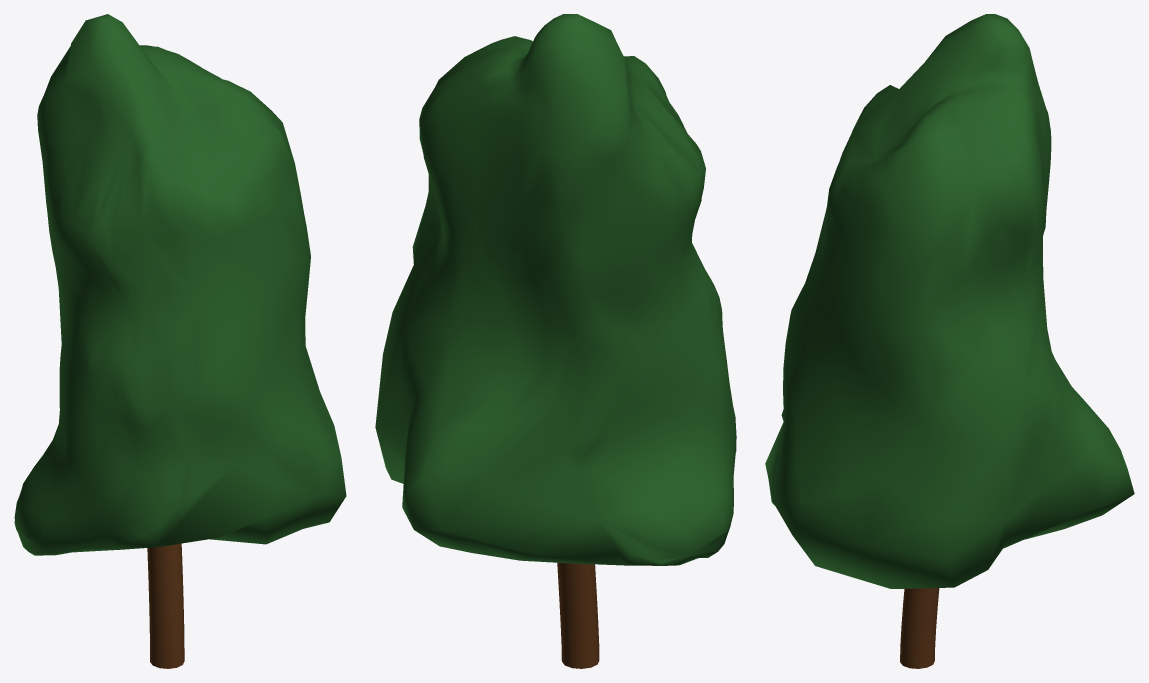
The model's file is trees_Tree_04.fbx.
3 views of the same model, side by side, from view 1: azimuth 30°, elevation 25°; view 2: azimuth 150°, elevation 25°; view 3: azimuth 270°, elevation 25° (orthographic). The views are drawn at different scales.
Parts seen in each view (by area): view 1: Icosphere.005, BezierCurve.002; view 2: Icosphere.005, BezierCurve.002; view 3: Icosphere.005, BezierCurve.002.
Boxes of the visible parts, x1,y1,x2,y2 form: Icosphere.005: [14, 14, 346, 555]; BezierCurve.002: [147, 543, 184, 668]; Icosphere.005: [375, 14, 736, 565]; BezierCurve.002: [557, 562, 599, 668]; Icosphere.005: [765, 14, 1134, 588]; BezierCurve.002: [900, 588, 939, 668].
Bounding box in the file's own units: 6.15 × 11.98 × 6.35.
